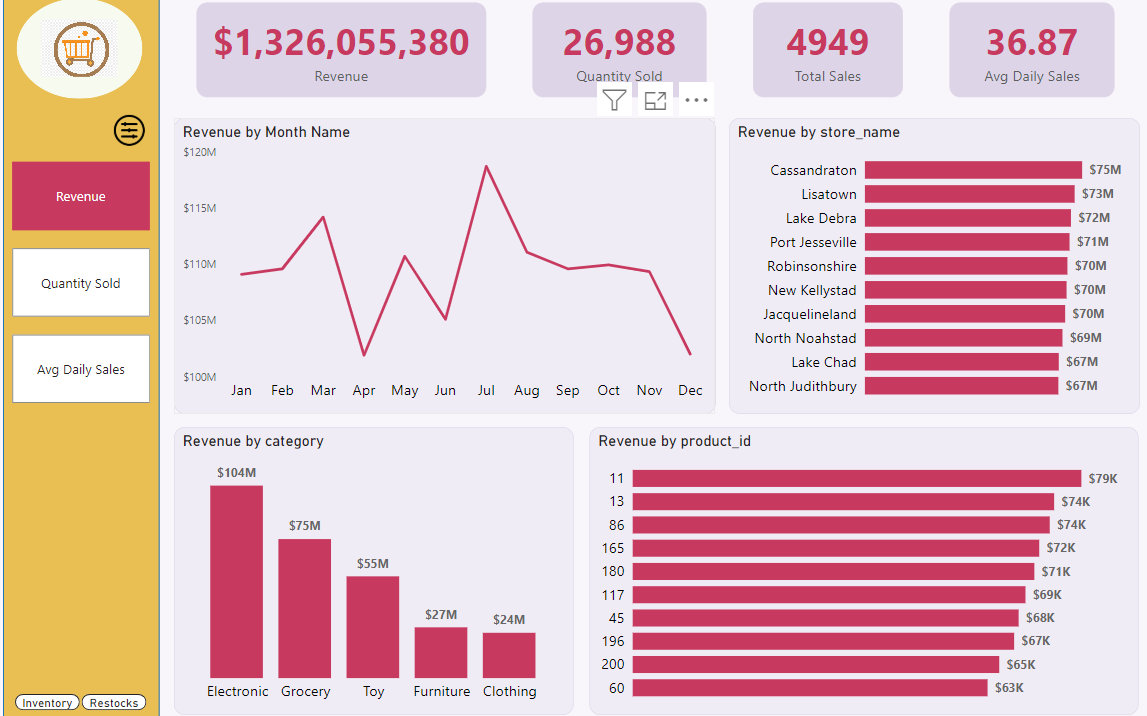

The dashboard page shown, as its layout file describes it:
{"tool":"powerbi","page":{"name":"Sales","canvas":[1280,800],"ordinal":0},"visuals":[{"type":"shape","box":[6,0,174,800],"z":0},{"type":"card","fields":{"Values":["All Measures.Total Sales Revenue"]},"box":[221.7,5,321.7,105],"z":1000},{"type":"barChart","fields":{"Y":["All Measures.Revenue"],"Category":["stores.store_name"]},"box":[813.3,133.3,456.7,328.3],"z":2000},{"type":"clusteredColumnChart","fields":{"Y":["All Measures.Revenue"],"Category":["products.category"]},"box":[196,476,444,320],"z":3000},{"type":"card","fields":{"Values":["All Measures.Total Sales"]},"box":[840,5,166.7,105],"z":4000},{"type":"card","fields":{"Values":["All Measures.Total Qty Sold"]},"box":[595,5,193.3,105],"z":5000},{"type":"lineChart","fields":{"Y":["All Measures.Revenue"],"Category":["Date.Month Name"]},"box":[196.7,133.3,601.7,328.3],"z":6000},{"type":"card","fields":{"Values":["All Measures.AverageDailySales"]},"box":[1058.3,5,183.3,105],"z":7000},{"type":"barChart","fields":{"Y":["All Measures.Revenue"],"Category":["products.product_id"]},"box":[658,476,610,320],"z":8000},{"type":"advancedSlicerVisual","fields":{"Values":["Sales Parameter.Sales Parameter"]},"box":[11.7,176.7,163.3,280],"z":9000},{"type":"image","box":[123.3,123.3,46.7,46.7],"z":10000},{"type":"pageNavigator","box":[20,774,146,18],"z":12000},{"type":"shape","box":[22,0,140,112],"z":13000,"group":"g1"},{"type":"image","box":[44.2,18,95.6,74],"z":14000,"group":"g1"},{"type":"group","id":"g1","title":"Logo","box":[22,0,140,112],"z":14001}]}

Visuals, with their boxes in screenshot pixels (x1, y1, x2, y2), scaled from the page's 1280x800 canvas onto the 1147x716 screenshot:
shape: BBox(5, 0, 161, 715)
card - All Measures.Total Sales Revenue: BBox(199, 4, 487, 98)
barChart - All Measures.Revenue x stores.store_name: BBox(729, 119, 1138, 413)
clusteredColumnChart - All Measures.Revenue x products.category: BBox(176, 426, 574, 712)
card - All Measures.Total Sales: BBox(753, 4, 902, 98)
card - All Measures.Total Qty Sold: BBox(533, 4, 706, 98)
lineChart - All Measures.Revenue x Date.Month Name: BBox(176, 119, 715, 413)
card - All Measures.AverageDailySales: BBox(948, 4, 1113, 98)
barChart - All Measures.Revenue x products.product_id: BBox(590, 426, 1136, 712)
advancedSlicerVisual - Sales Parameter.Sales Parameter: BBox(10, 158, 157, 409)
image: BBox(110, 110, 152, 152)
pageNavigator: BBox(18, 693, 149, 709)
shape: BBox(20, 0, 145, 100)
image: BBox(40, 16, 125, 82)
"Logo" group: BBox(20, 0, 145, 100)
